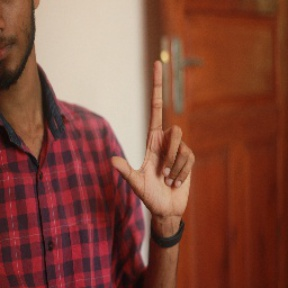L: (110, 62, 193, 211)
